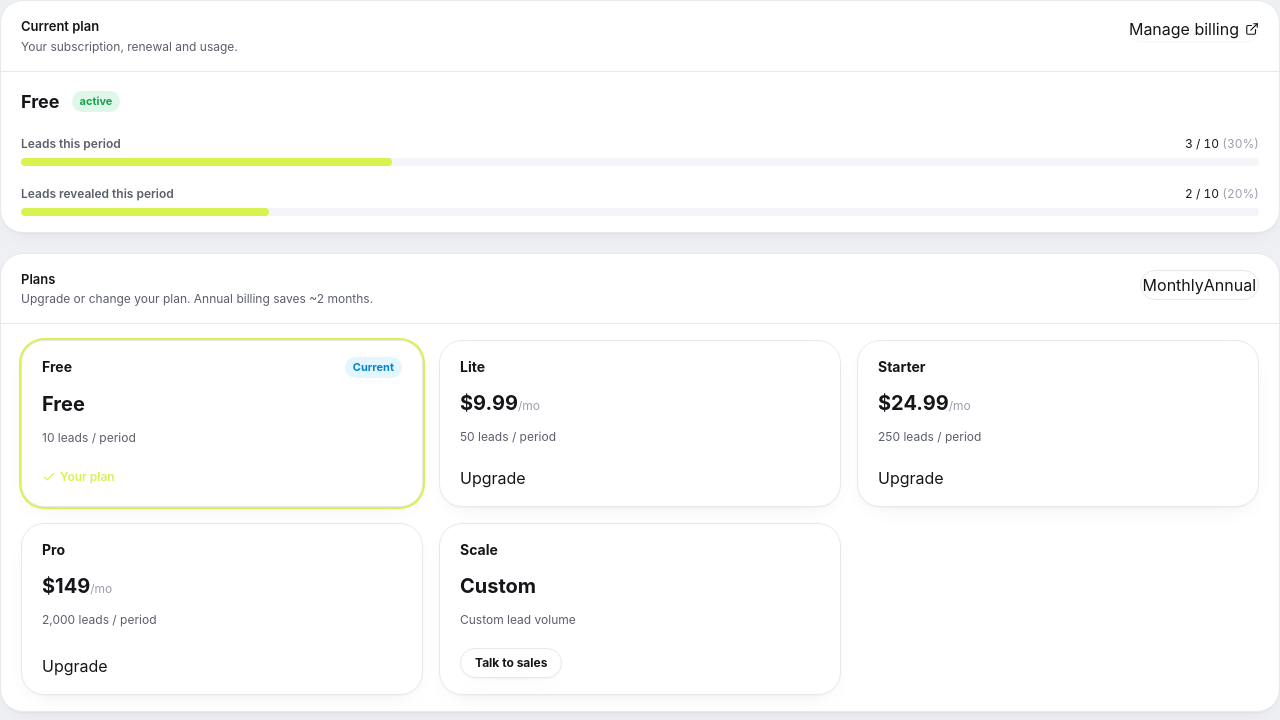
BillingPanel › a Free org with no Polar account shows a message and does not redirect
Click the button "Manage billing" at (1194,29), box [1129, 17, 1259, 41]
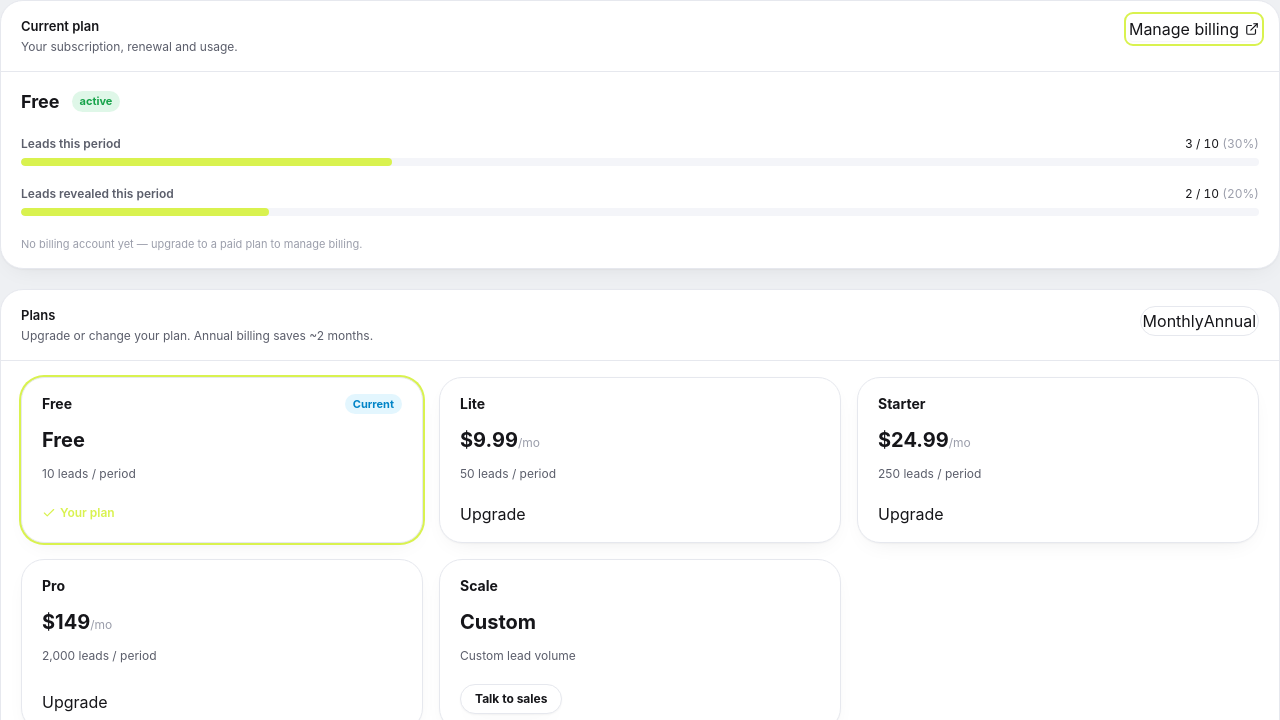
Expected: the text "No billing account yet" is shown, [21, 236, 362, 250]
